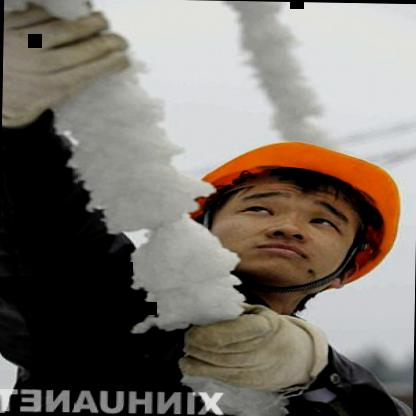helmet: (129, 123, 416, 310)
